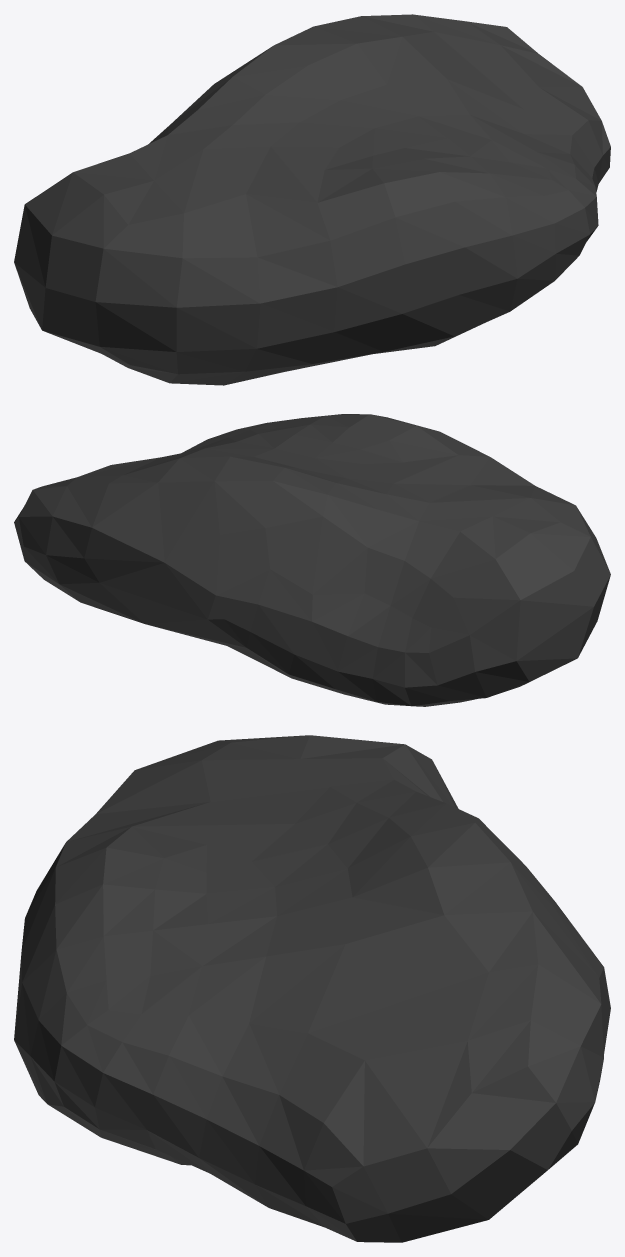
File: RFL_prox_radius.glb
3 views of the same model, one above another, from view 1: azimuth 30°, elevation 25°; view 2: azimuth 150°, elevation 25°; view 3: azimuth 270°, elevation 25° (orthographic). The views are drawn at different scales.
Parts seen in each view (by area): view 1: RFL_prox_radius; view 2: RFL_prox_radius; view 3: RFL_prox_radius.
Boxes of the visible parts, left/top/right/bottom form: RFL_prox_radius: left=14, top=14, right=610, bottom=385; RFL_prox_radius: left=14, top=414, right=610, bottom=706; RFL_prox_radius: left=14, top=735, right=610, bottom=1242.
Size of the model in its own units: 14.24 by 5.55 by 9.25.
Materials: 1 (1 with a texture image).
